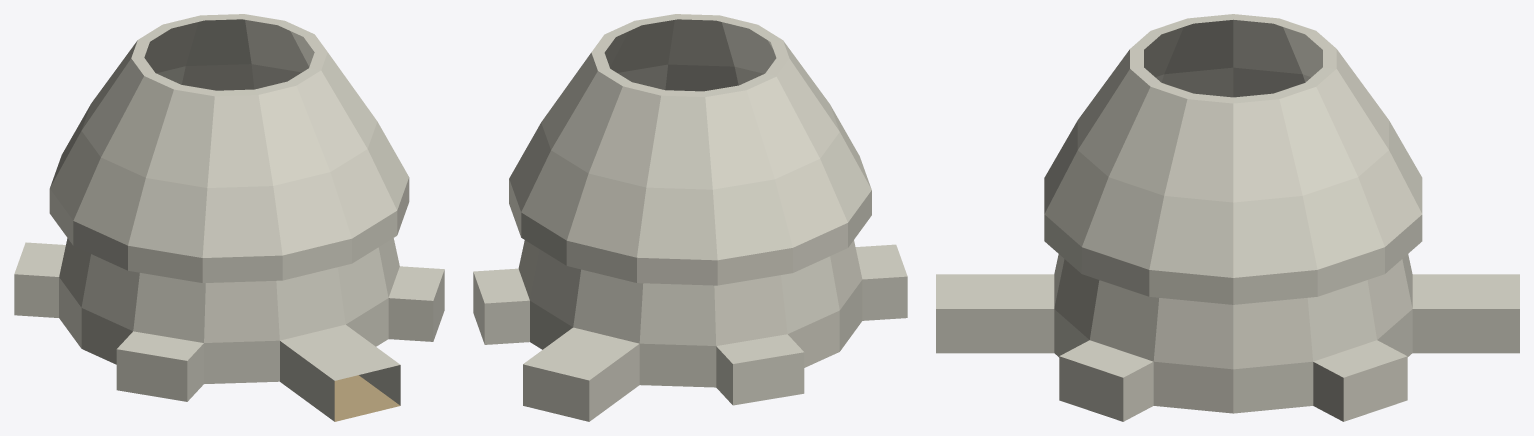
The model's file is Arena_V2.fbx.
3 views of the same model, side by side, from view 1: azimuth 30°, elevation 25°; view 2: azimuth 150°, elevation 25°; view 3: azimuth 270°, elevation 25° (orthographic). The views are drawn at different scales.
Visible parts, largest first — view 1: Arena_Walls, Arena_Floor; view 2: Arena_Walls; view 3: Arena_Walls.
Boxes of the visible parts, box(x1,y1,x2,y2) form: Arena_Walls: box(14, 14, 444, 421); Arena_Floor: box(334, 375, 400, 421); Arena_Walls: box(473, 14, 907, 421); Arena_Walls: box(936, 14, 1519, 421).
Size of the model in its own units: 4815 by 3900 by 6901.
